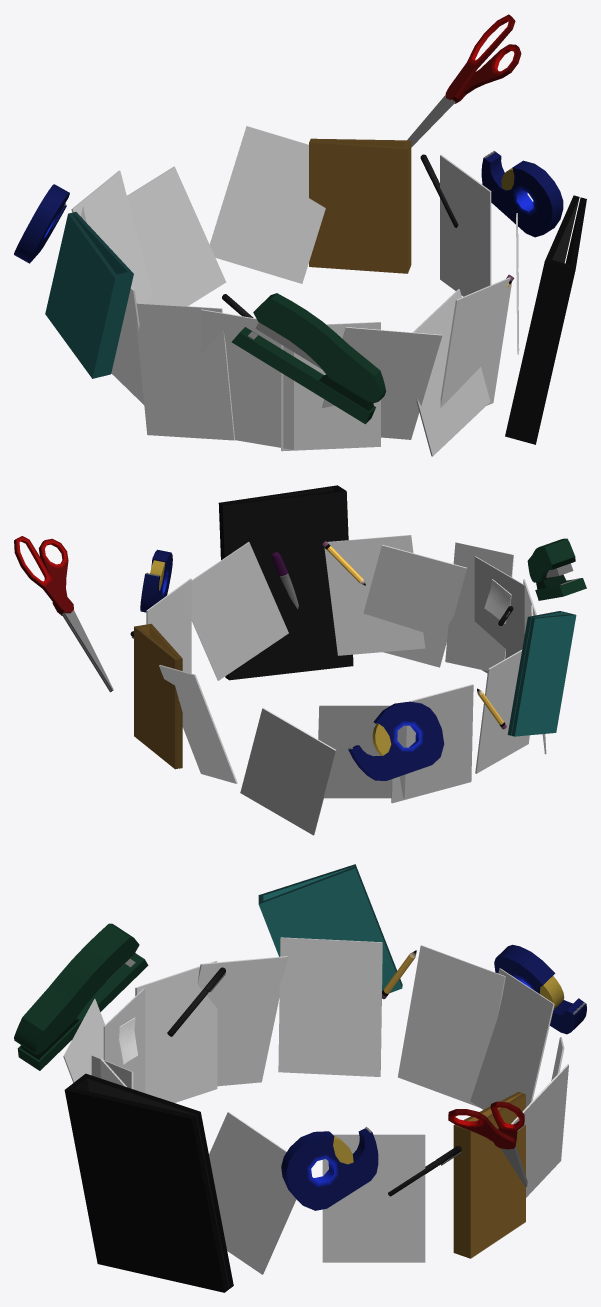
The model's file is backgrounditems.fbx.
3 renders of one model, top to bottom at view 1: azimuth 30°, elevation 25°; view 2: azimuth 150°, elevation 25°; view 3: azimuth 270°, elevation 25°, orthographic. The views are drawn at different scales.
Visible parts, largest first — view 1: Binder_1, Paper_12, Paper_1, Binder_2, Stapler, Paper_13, Binder_3, Paper_9, Paper_10, Paper_5, Paper_8, Paper_6 (+6 smaller); view 2: Binder_3, Paper_4, Paper_6, Paper_13, Paper_8, Binder_2, Binder_1, Paper_2, Paper_11, Tape_Roll1, Paper_10, Paper_12 (+8 smaller); view 3: Binder_3, Paper_7, Paper_2, Paper_5, Paper_4, Stapler, Paper_9, Binder_1, Paper_1, Binder_2, Paper_11, Tape_Roll (+9 smaller).
Part boxes in pixels (x1,y1,x2,y2): Binder_1: [309, 138, 411, 273]; Paper_12: [209, 126, 325, 283]; Paper_1: [136, 303, 234, 440]; Binder_2: [45, 212, 133, 378]; Stapler: [231, 293, 386, 424]; Paper_13: [127, 166, 226, 306]; Binder_3: [505, 195, 586, 444]; Paper_9: [201, 309, 294, 449]; Paper_10: [322, 327, 442, 439]; Paper_5: [440, 154, 491, 296]; Paper_8: [440, 277, 512, 407]; Paper_6: [413, 289, 490, 456]; Binder_3: [218, 485, 353, 680]; Paper_4: [191, 542, 288, 680]; Paper_6: [363, 544, 466, 667]; Paper_13: [240, 707, 336, 835]; Paper_8: [324, 535, 425, 655]; Binder_2: [507, 611, 576, 736]; Binder_1: [134, 623, 182, 769]; Paper_2: [391, 684, 473, 803]; Paper_11: [318, 705, 406, 798]; Tape_Roll1: [348, 701, 444, 780]; Paper_10: [445, 542, 513, 671]; Paper_12: [159, 665, 237, 783]; Binder_3: [64, 1073, 233, 1292]; Paper_7: [278, 937, 382, 1076]; Paper_2: [398, 945, 505, 1107]; Paper_5: [322, 1134, 425, 1262]; Paper_4: [209, 1111, 296, 1274]; Stapler: [14, 923, 148, 1070]; Paper_9: [135, 961, 217, 1102]; Binder_1: [453, 1091, 525, 1258]; Paper_1: [197, 956, 287, 1086]; Binder_2: [258, 864, 402, 992]; Paper_11: [470, 968, 554, 1109]; Tape_Roll: [281, 1126, 378, 1210].
Bounding box in the file's own units: 38.12 × 17.49 × 35.61.
